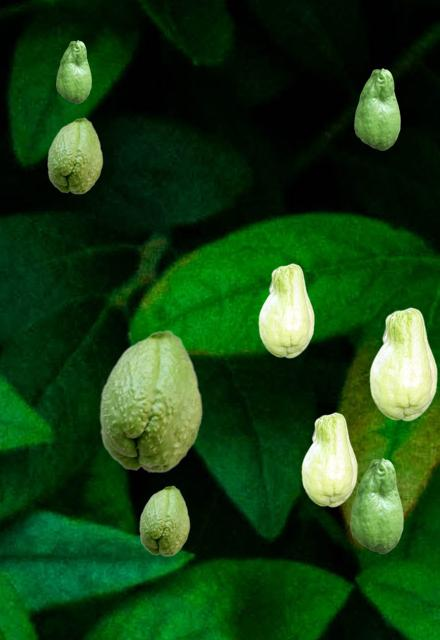sayote: (99, 329, 202, 472), (369, 307, 436, 420), (301, 412, 356, 506), (258, 263, 313, 357), (350, 458, 402, 552), (47, 117, 102, 193), (354, 68, 399, 149), (139, 485, 189, 555), (56, 40, 90, 102)
